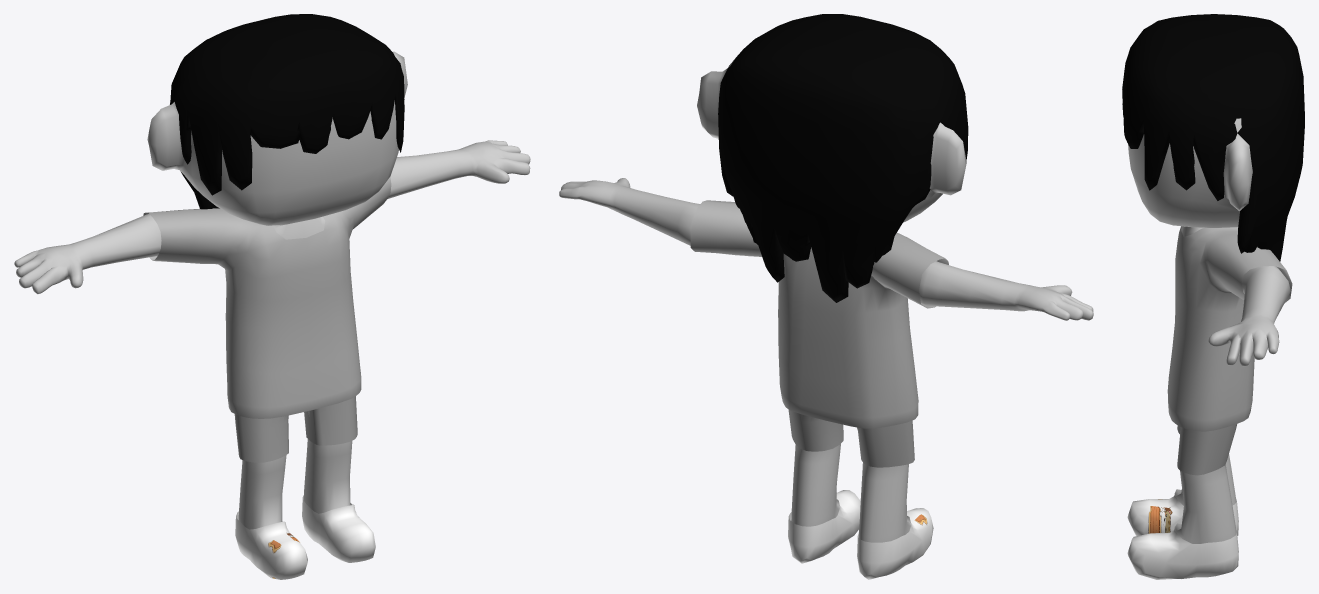
The model's file is set C.fbx.
3 renders of one model, left to right at view 1: azimuth 30°, elevation 25°; view 2: azimuth 150°, elevation 25°; view 3: azimuth 270°, elevation 25°, orthographic. The views are drawn at different scales.
Visible parts, largest first — view 1: polySurface5, TSHIRT1, U3, short, SHOEKANAN, SHOEKALIWA; view 2: U3, TSHIRT1, polySurface5, short, SHOEKANAN, SHOEKALIWA; view 3: U3, polySurface5, TSHIRT1, SHOEKALIWA, short, SHOEKANAN.
Boxes of the visible parts, x1,y1,x2,y2 form: polySurface5: (14, 51, 530, 529); TSHIRT1: (143, 176, 391, 418); U3: (170, 14, 404, 209); short: (234, 396, 357, 462); SHOEKANAN: (235, 511, 307, 579); SHOEKALIWA: (302, 495, 375, 562); U3: (718, 14, 968, 302); TSHIRT1: (690, 200, 948, 428); polySurface5: (559, 59, 1093, 542); short: (788, 409, 914, 467); SHOEKANAN: (857, 508, 933, 579); SHOEKALIWA: (788, 490, 860, 563); U3: (1122, 14, 1304, 261); polySurface5: (1128, 118, 1290, 543); TSHIRT1: (1167, 226, 1292, 431); SHOEKALIWA: (1127, 523, 1238, 579); short: (1177, 424, 1236, 475); SHOEKANAN: (1127, 489, 1238, 536).
Bounding box in the file's own units: 3.42 × 3.28 × 1.04.
